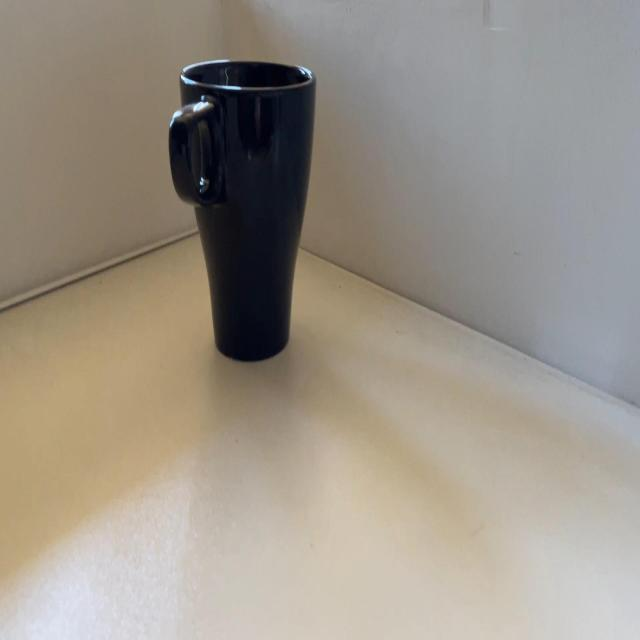cup: (166, 60, 320, 364)
